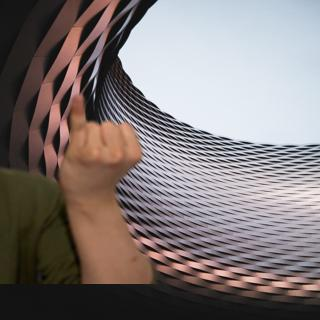FINE: (56, 92, 145, 210)
